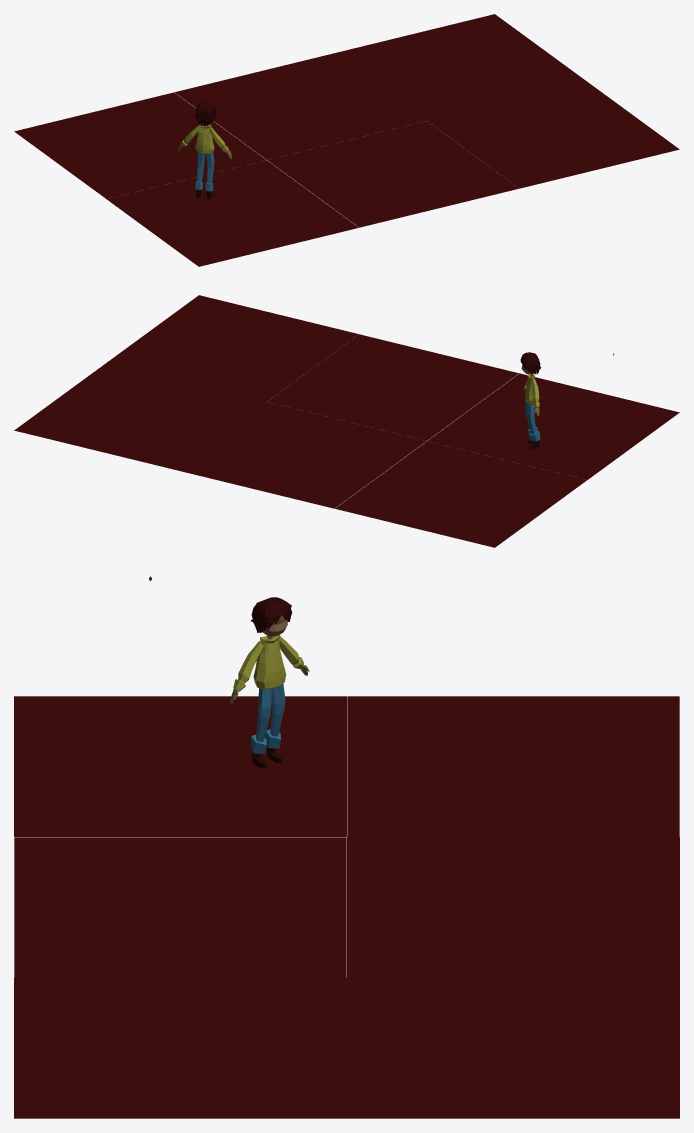
Rendered from quartochao.glb.
The picture shows the model from 3 angles, top to bottom: view 1: azimuth 30°, elevation 25°; view 2: azimuth 150°, elevation 25°; view 3: azimuth 270°, elevation 25°; orthographic projection. The views are drawn at different scales.
Visible parts, largest first — view 1: Plane.002, Plane.003, Plane.006, Plane.007, Plane, Plane.001, rosto; view 2: Plane.002, Plane.003, Plane.007, Plane.006, Plane.001, Plane, rosto; view 3: Plane.002, Plane.003, Plane.001, Plane.006, Plane.007, Plane, rosto.
Part boxes in pixels (box(x1,y1,x2,y2)): Plane.002: box(335, 14, 586, 120); Plane.003: box(428, 82, 679, 188); Plane.006: box(267, 121, 518, 227); Plane.007: box(175, 53, 426, 159); Plane: box(106, 160, 358, 266); Plane.001: box(14, 92, 265, 198); rosto: box(177, 100, 231, 199); Plane.002: box(14, 363, 265, 469); Plane.003: box(107, 295, 358, 401); Plane.007: box(175, 402, 426, 508); Plane.006: box(267, 334, 518, 440); Plane.001: box(335, 441, 586, 547); Plane: box(427, 373, 679, 479); rosto: box(520, 352, 541, 448); Plane.002: box(347, 977, 679, 1118); Plane.003: box(14, 977, 346, 1118); Plane.001: box(347, 696, 679, 836); Plane.006: box(14, 837, 346, 977); Plane.007: box(347, 837, 679, 977); Plane: box(14, 696, 346, 836); rosto: box(229, 597, 309, 768).
Bounding box in the file's own units: 12.02 × 2.25 × 8.01.
